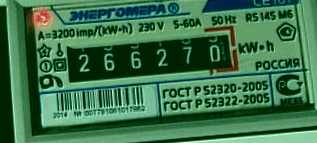0: (208, 42, 222, 64)
2: (76, 52, 92, 74), (155, 46, 169, 68)
6: (102, 52, 117, 73), (128, 49, 143, 69)
7: (180, 44, 195, 66)
screen: (56, 21, 247, 93)
